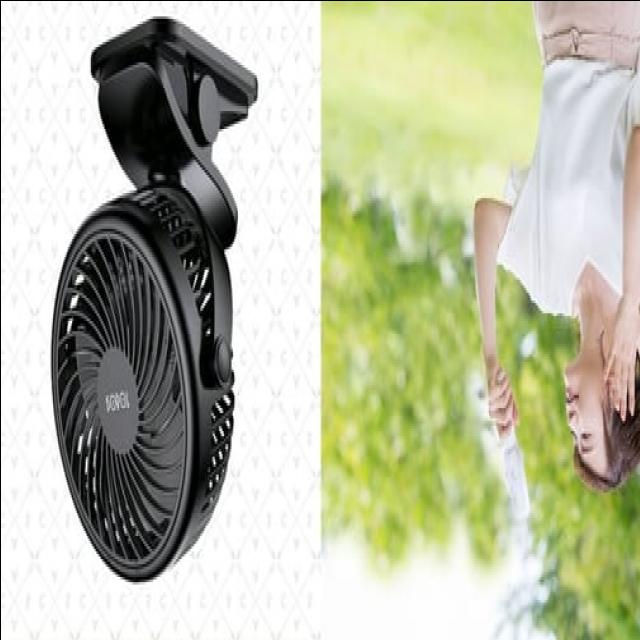fan: (46, 12, 263, 576)
